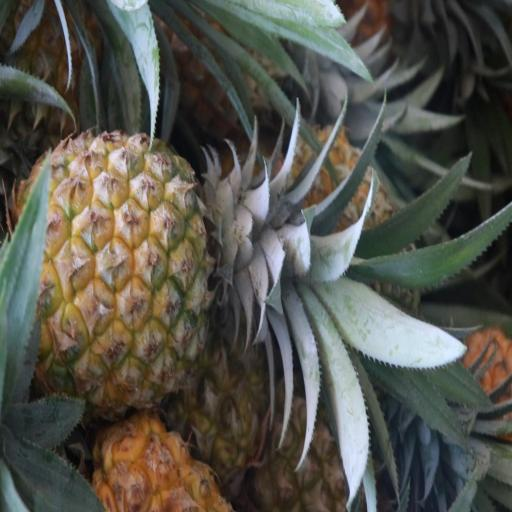Pineapple - v8 v1: (24, 132, 232, 410), (248, 336, 380, 512)
